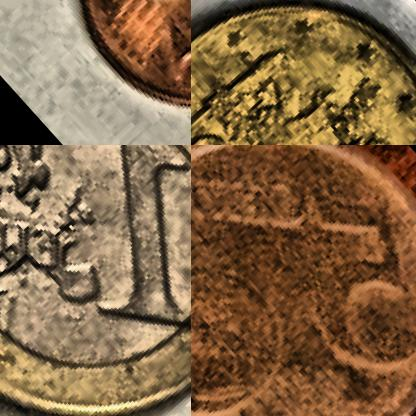coin: (191, 145, 415, 415), (0, 145, 190, 415), (191, 0, 415, 144), (30, 0, 190, 144)
